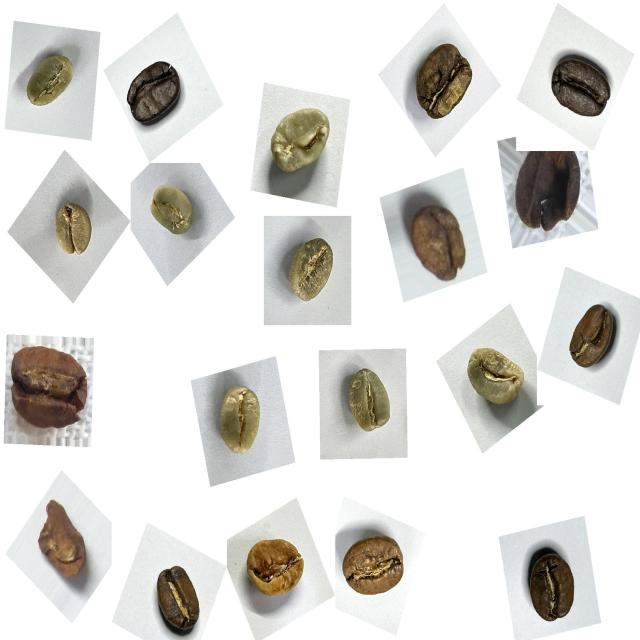bad: (3, 334, 97, 446), (508, 137, 592, 240), (397, 186, 477, 288), (28, 495, 94, 590)
dark: (542, 46, 619, 132), (120, 48, 192, 134)
green: (259, 94, 341, 192), (454, 337, 533, 426), (273, 227, 345, 319), (206, 376, 275, 466), (333, 358, 403, 446), (18, 41, 86, 122), (139, 173, 204, 250)
light: (333, 524, 415, 614), (237, 525, 315, 613), (44, 194, 102, 268)
medium: (403, 35, 483, 134), (516, 542, 588, 634), (559, 294, 625, 382), (144, 557, 211, 640)
